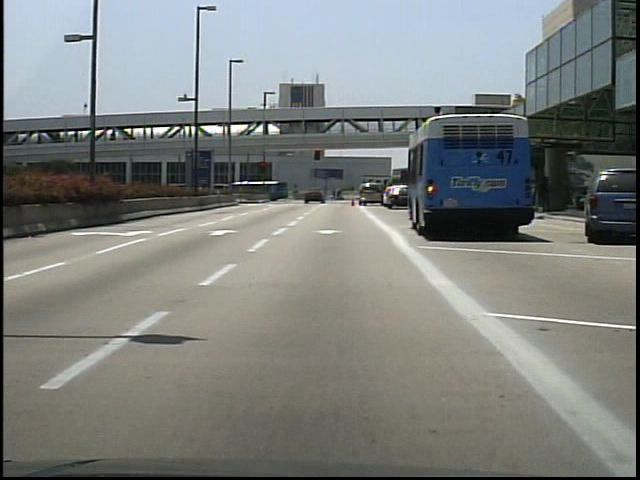person: (539, 175, 554, 211), (335, 187, 348, 202), (336, 187, 337, 202)
